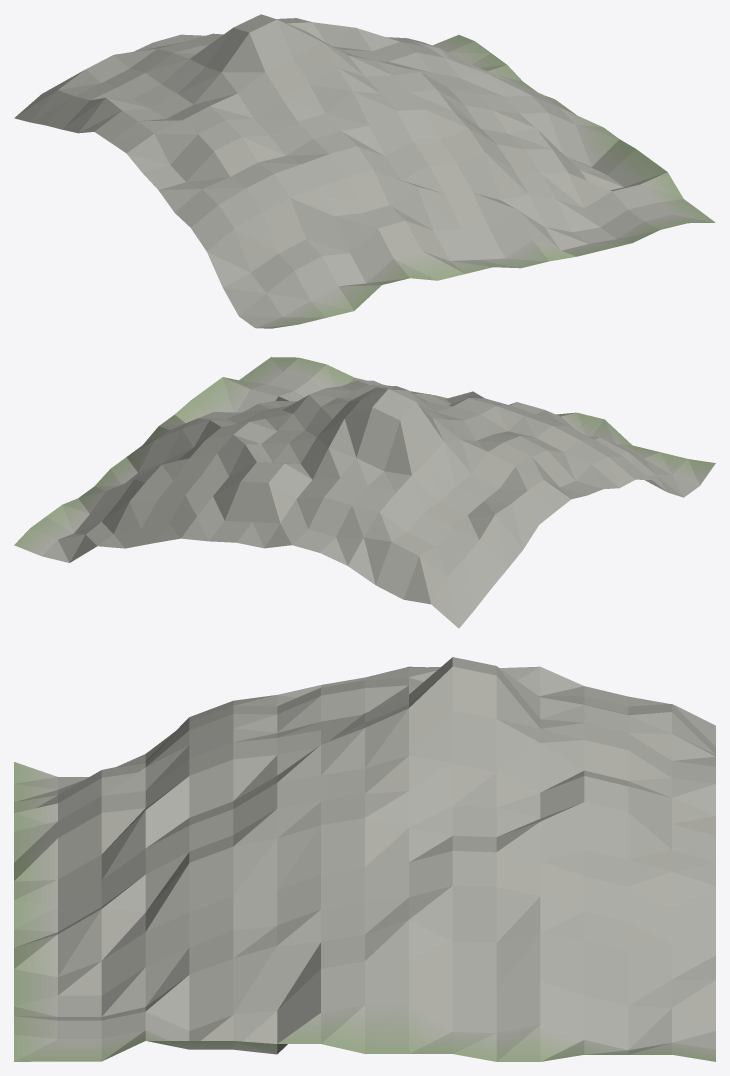
3 renders of one model, top to bottom at view 1: azimuth 30°, elevation 25°; view 2: azimuth 150°, elevation 25°; view 3: azimuth 270°, elevation 25°, orthographic. The views are drawn at different scales.
Bounding box in the file's own units: 32 × 11.14 × 32.
